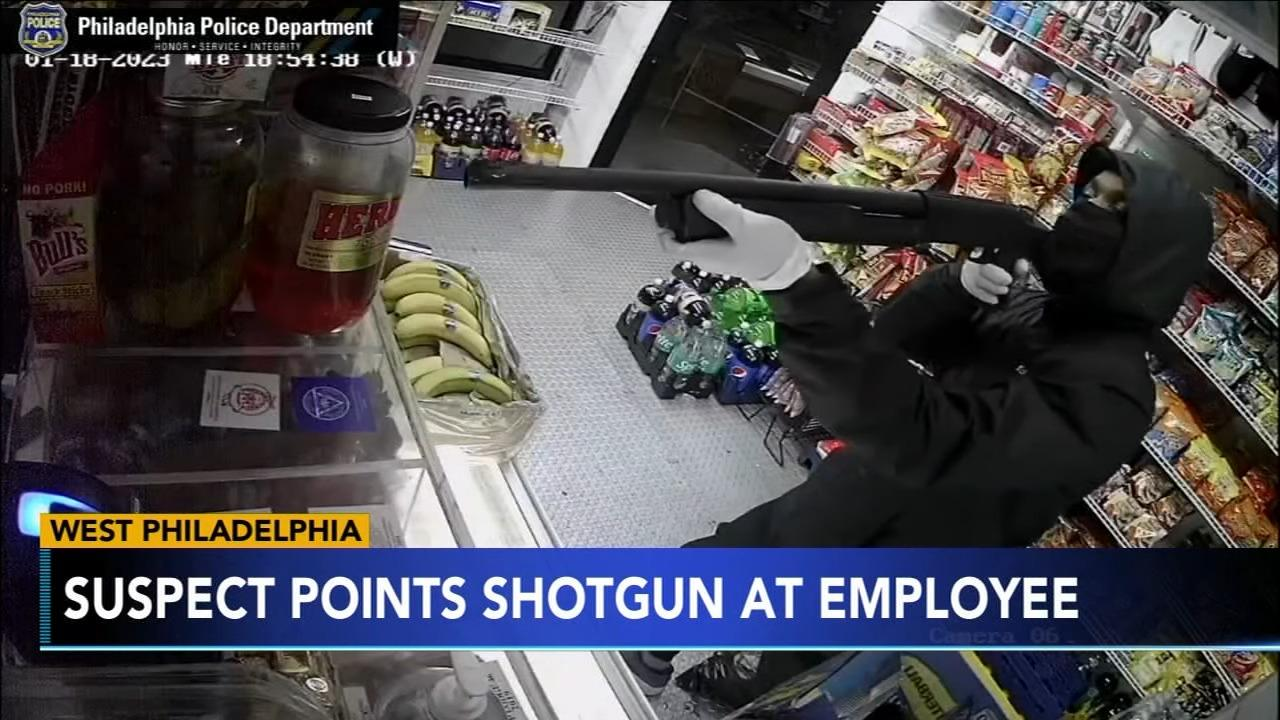shotgun: (459, 154, 1041, 299)
